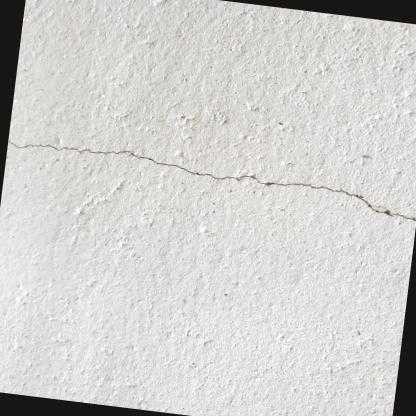crack: (7, 139, 416, 221)
